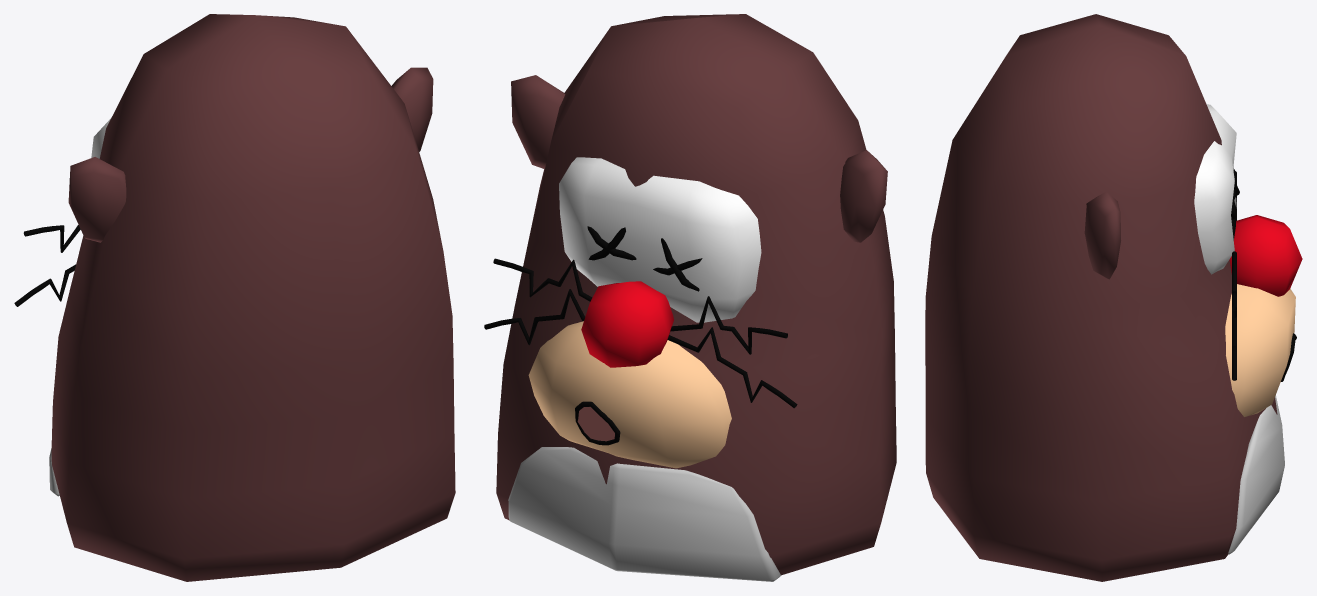
File: moleHit.fbx
3 views of the same model, side by side, from view 1: azimuth 30°, elevation 25°; view 2: azimuth 150°, elevation 25°; view 3: azimuth 270°, elevation 25° (orthographic). The views are drawn at different scales.
Visible parts, largest first — view 1: Cube, Cube.002, Cube.003, Plane.001; view 2: Cube, Cube.008, Cube.001, Cube.004, Cube.005, Plane.001, Cube.002, Cube.003, Plane, Circle.001, Circle; view 3: Cube, Cube.004, Cube.001, Cube.005, Cube.008, Cube.003, Plane.001.
Boxes of the visible parts, x1,y1,x2,y2 form: Cube: (51,14,455,581); Cube.002: (68,157,126,242); Cube.003: (391,67,433,151); Plane.001: (14,225,80,306); Cube: (496,14,896,575); Cube.008: (508,447,780,581); Cube.001: (559,157,761,322); Cube.004: (528,321,731,468); Cube.005: (581,281,673,367); Plane.001: (484,258,797,408); Cube.002: (840,150,887,242); Cube.003: (511,75,565,168); Plane: (587,226,702,291); Circle.001: (577,407,614,441); Circle: (575,401,620,445); Cube: (925,14,1277,581); Cube.004: (1225,284,1295,416); Cube.001: (1194,104,1236,274); Cube.005: (1229,215,1302,296); Cube.008: (1228,395,1284,554); Cube.003: (1084,191,1120,279); Plane.001: (1232,171,1236,380).
Bounding box in the file's own units: 325 × 410 × 294.
